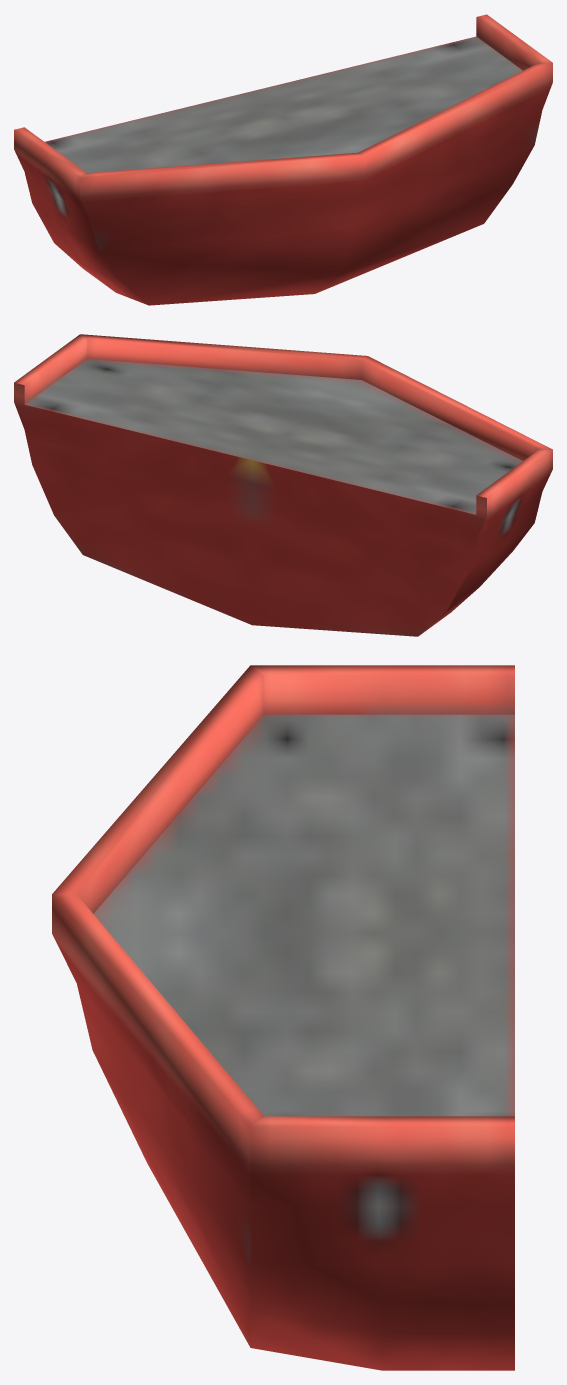
Rendered from BaseBig2.FBX.
3 renders of one model, top to bottom at view 1: azimuth 30°, elevation 25°; view 2: azimuth 150°, elevation 25°; view 3: azimuth 270°, elevation 25°, orthographic. The views are drawn at different scales.
Visible parts, largest first — view 1: BaseBig2; view 2: BaseBig2; view 3: BaseBig2.
Part boxes in pixels (<box>): BaseBig2: <box>14,14,552,305</box>; BaseBig2: <box>14,334,552,636</box>; BaseBig2: <box>52,665,514,1370</box>.
Bounding box in the file's own units: 101 × 37.79 × 42.97.
1 material, 1 textured.
